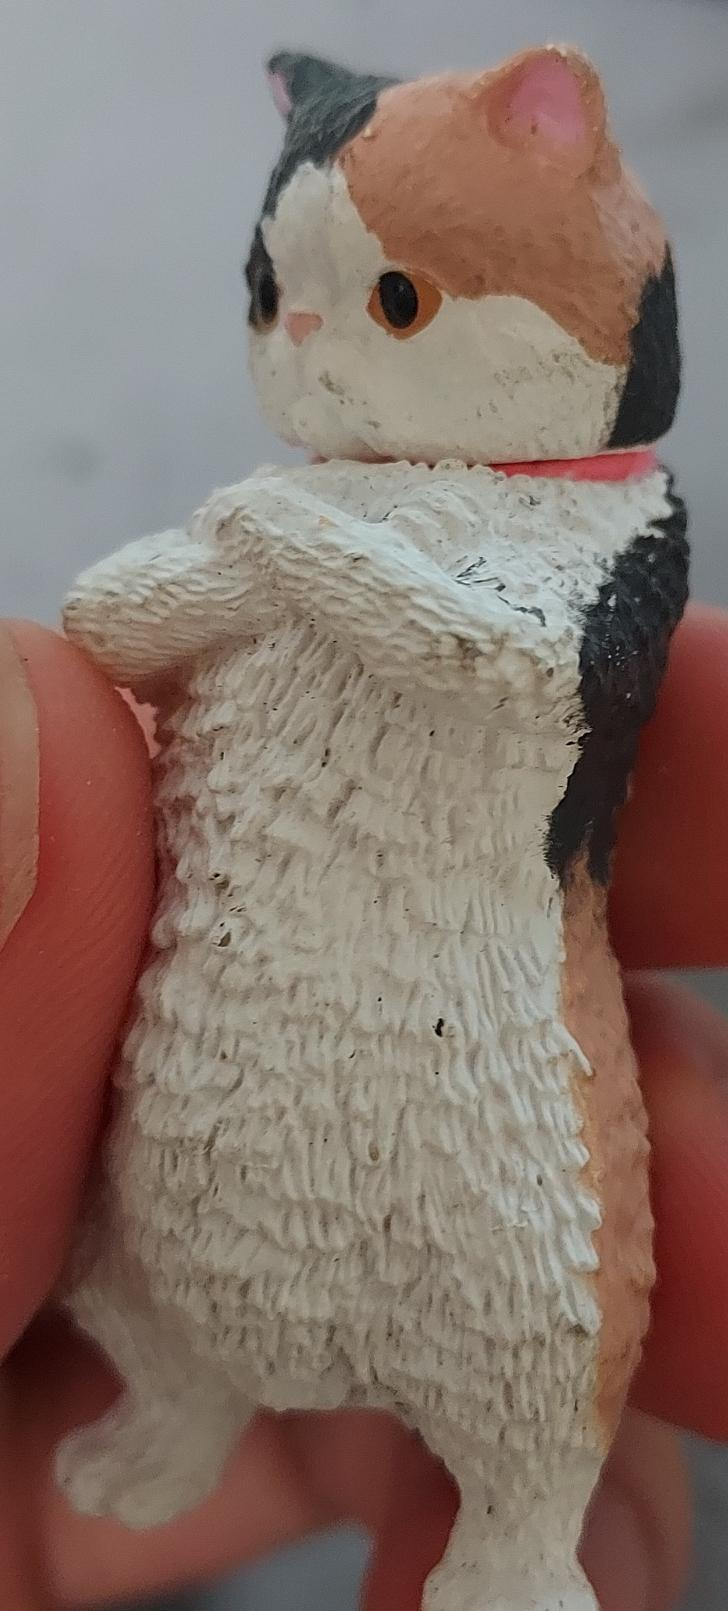cat: (0, 1, 728, 1611)
